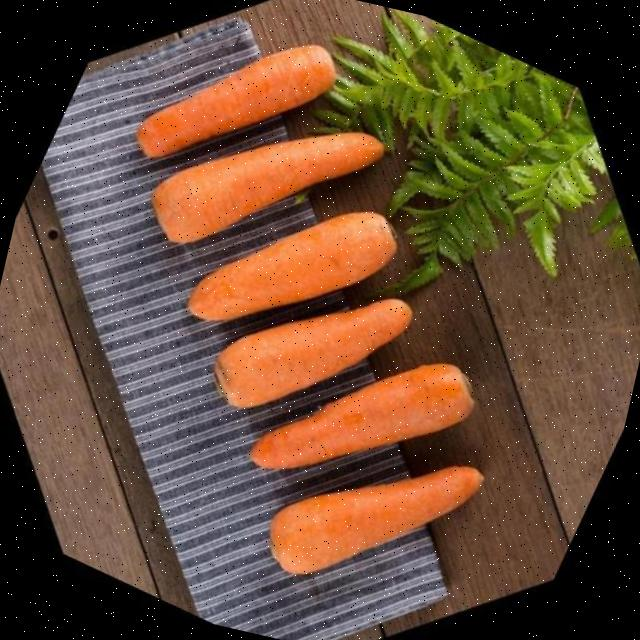carrot: (151, 132, 383, 242), (252, 363, 473, 468), (270, 466, 483, 574), (187, 211, 396, 320), (136, 45, 336, 157), (214, 299, 411, 407)
